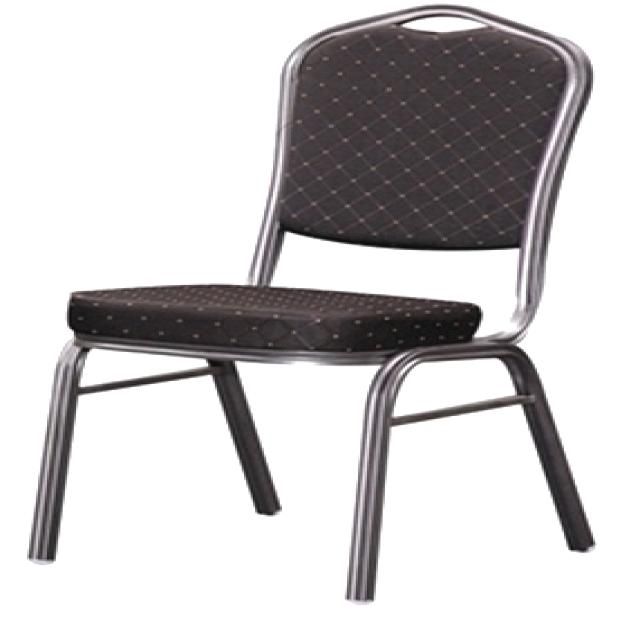Chair: (10, 6, 598, 611)
